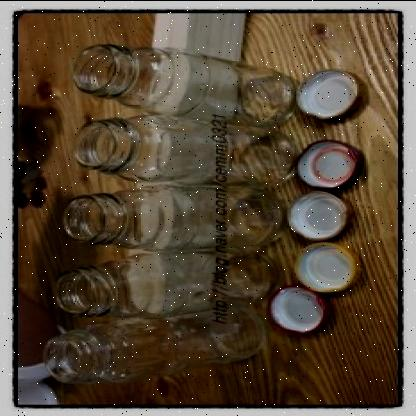Others: (72, 43, 296, 124), (43, 308, 267, 385), (74, 114, 298, 184), (53, 250, 280, 318), (62, 182, 286, 250)
